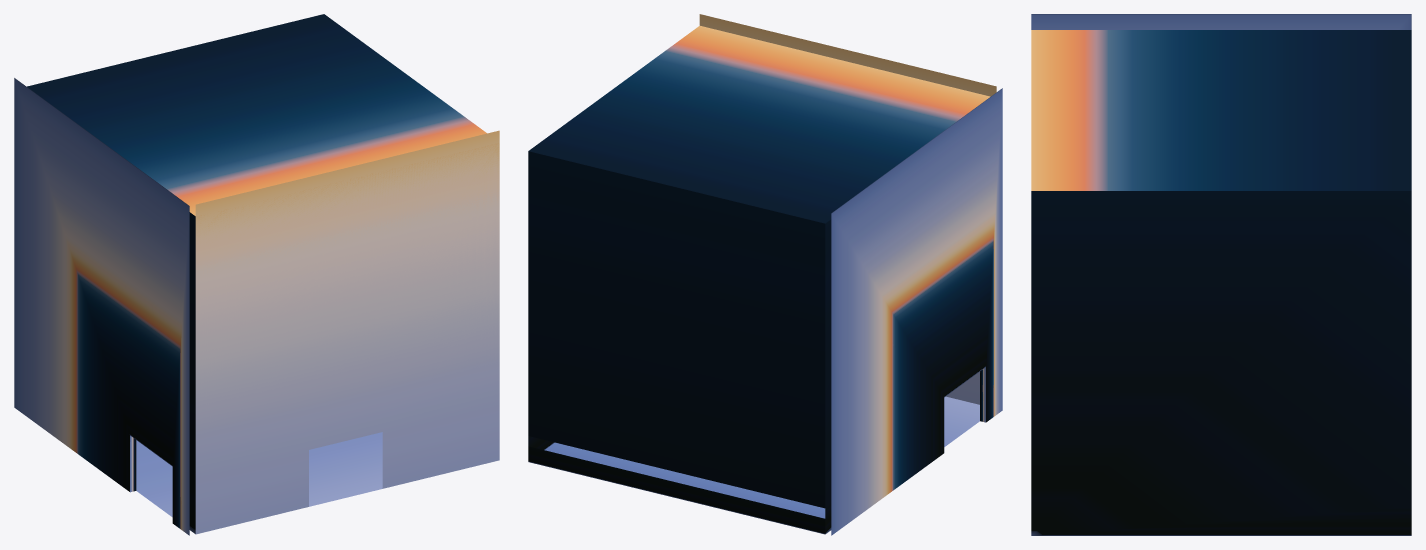
The model's file is blue_room_01.fbx.
3 renders of one model, left to right at view 1: azimuth 30°, elevation 25°; view 2: azimuth 150°, elevation 25°; view 3: azimuth 270°, elevation 25°, orthographic. The views are drawn at different scales.
Visible parts, largest first — view 1: polySurface693; view 2: polySurface693; view 3: polySurface693.
Boxes of the visible parts, x1,y1,x2,y2 form: polySurface693: (14, 14, 499, 535); polySurface693: (528, 14, 1002, 535); polySurface693: (1031, 14, 1411, 535).
Bounding box in the file's own units: 10.2 × 10.38 × 10.
